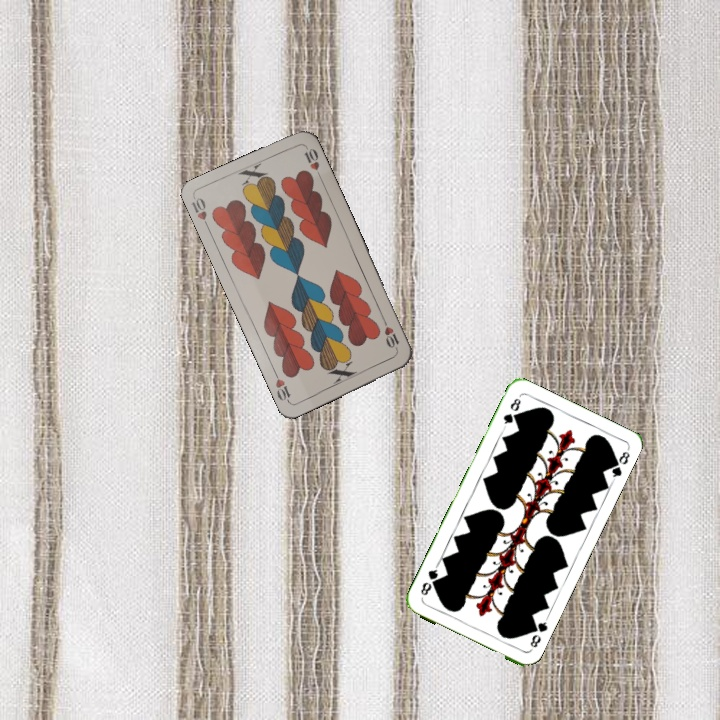G8: (499, 394, 523, 431), (526, 615, 550, 650)
H10: (188, 193, 212, 233), (379, 315, 402, 354)
